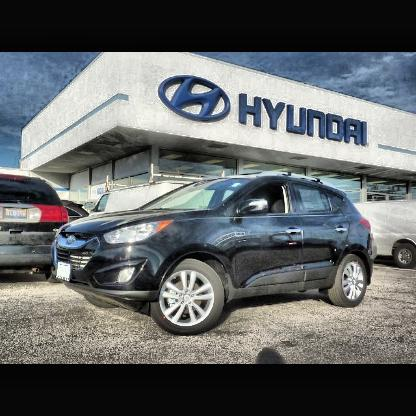Hyundai Tucson SUV 2012: (55, 173, 376, 339)
